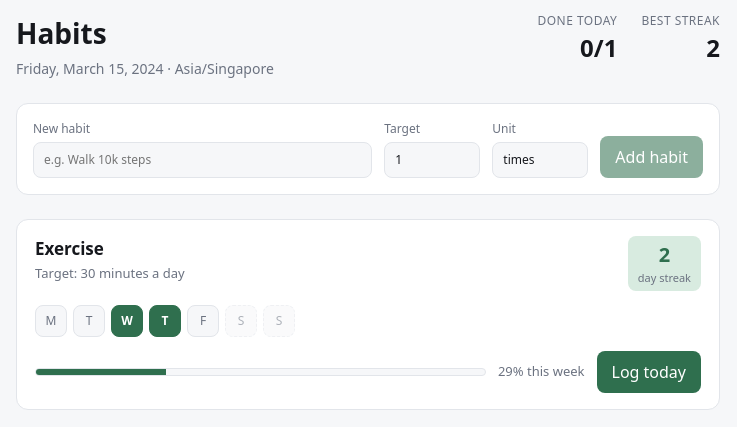
Test: HabitDashboard › logs a habit and shows the refreshed numbers
Click the button "Log today" at (649, 372), box [596, 350, 701, 392]
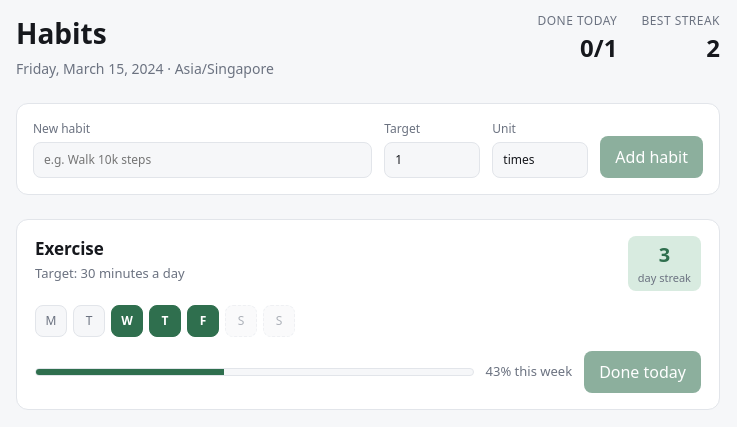
Now the button "Done today" is disabled, box [584, 350, 701, 392]
Now the text "43% this week" is shown, box [486, 362, 572, 381]
